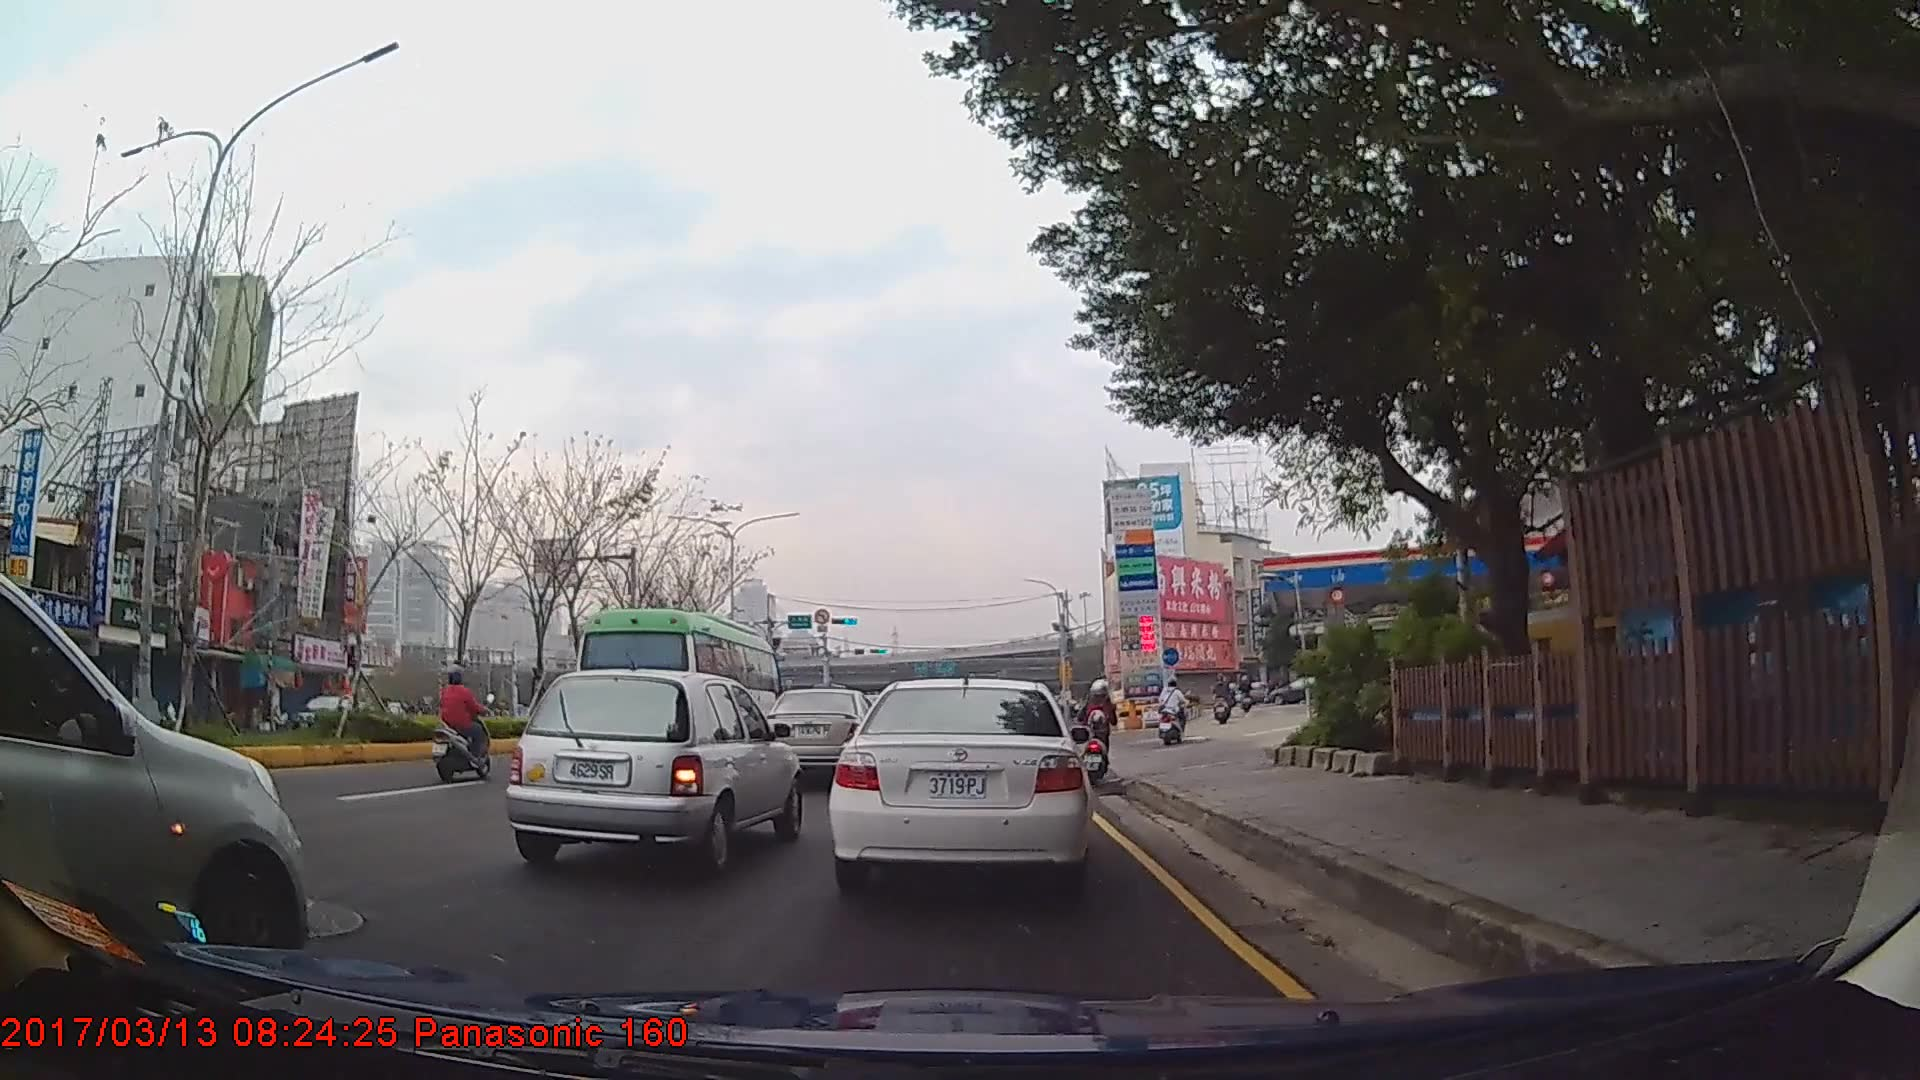rider: (430, 664, 496, 786), (1078, 680, 1119, 782), (1158, 676, 1186, 745), (1213, 671, 1233, 725)
vehicle: (0, 574, 309, 986), (503, 668, 802, 871), (830, 675, 1094, 893), (569, 604, 784, 779), (762, 686, 883, 778)
